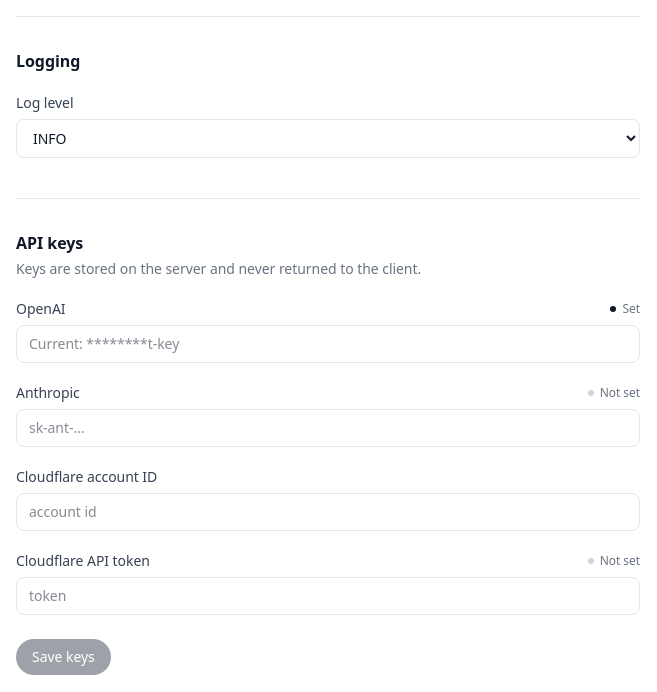
Test case: SettingsPage - API Key Input Fields › enables Save keys button when a key is entered
(page scrolled)
Type "sk-new-test-key" into the password field with test id "openai-key-input" at (328, 344), box [16,324,640,362]
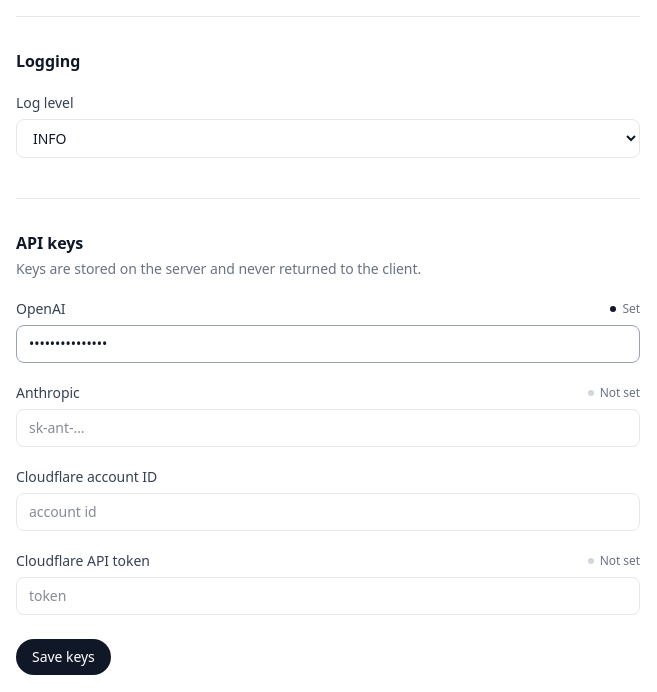
Now the button "Save keys" is enabled, box [16,638,111,674]
